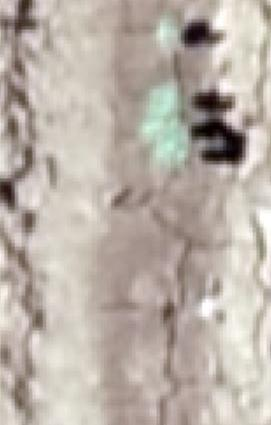cotton: (143, 120, 188, 164), (148, 84, 183, 117), (157, 15, 181, 46)
